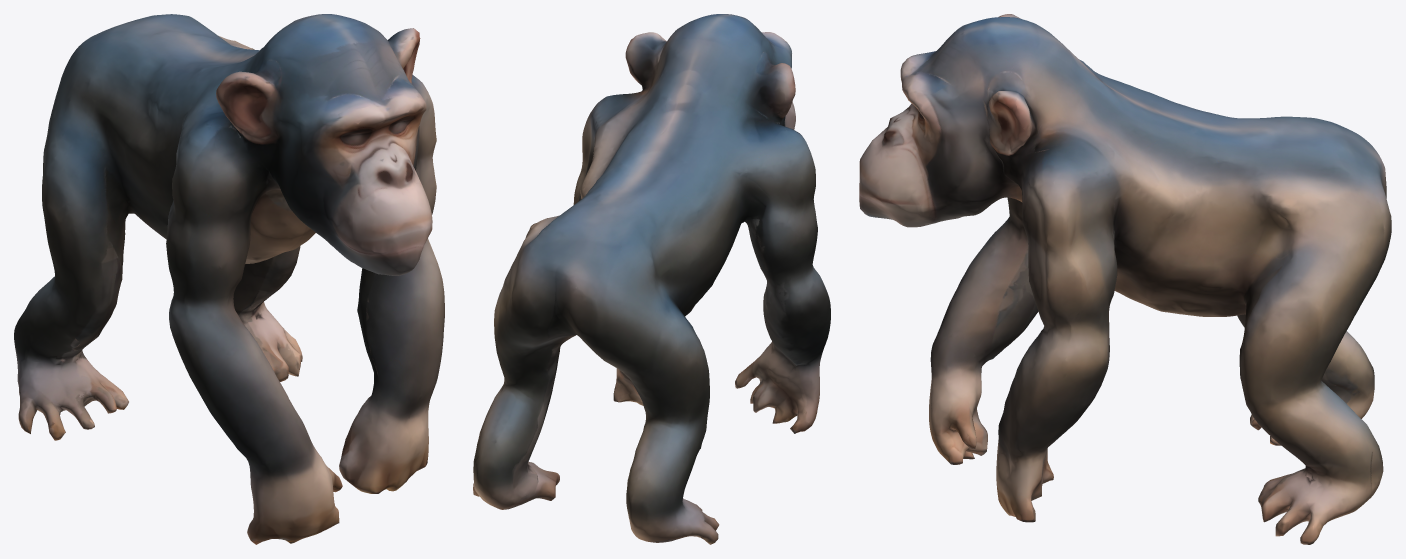
File: Chimpanzee.glb
3 views of the same model, side by side, from view 1: azimuth 30°, elevation 25°; view 2: azimuth 150°, elevation 25°; view 3: azimuth 270°, elevation 25° (orthographic). The views are drawn at different scales.
Size of the model in its own units: 0.7109 by 1.15 by 1.2.
Materials: 1 (1 with a texture image).
